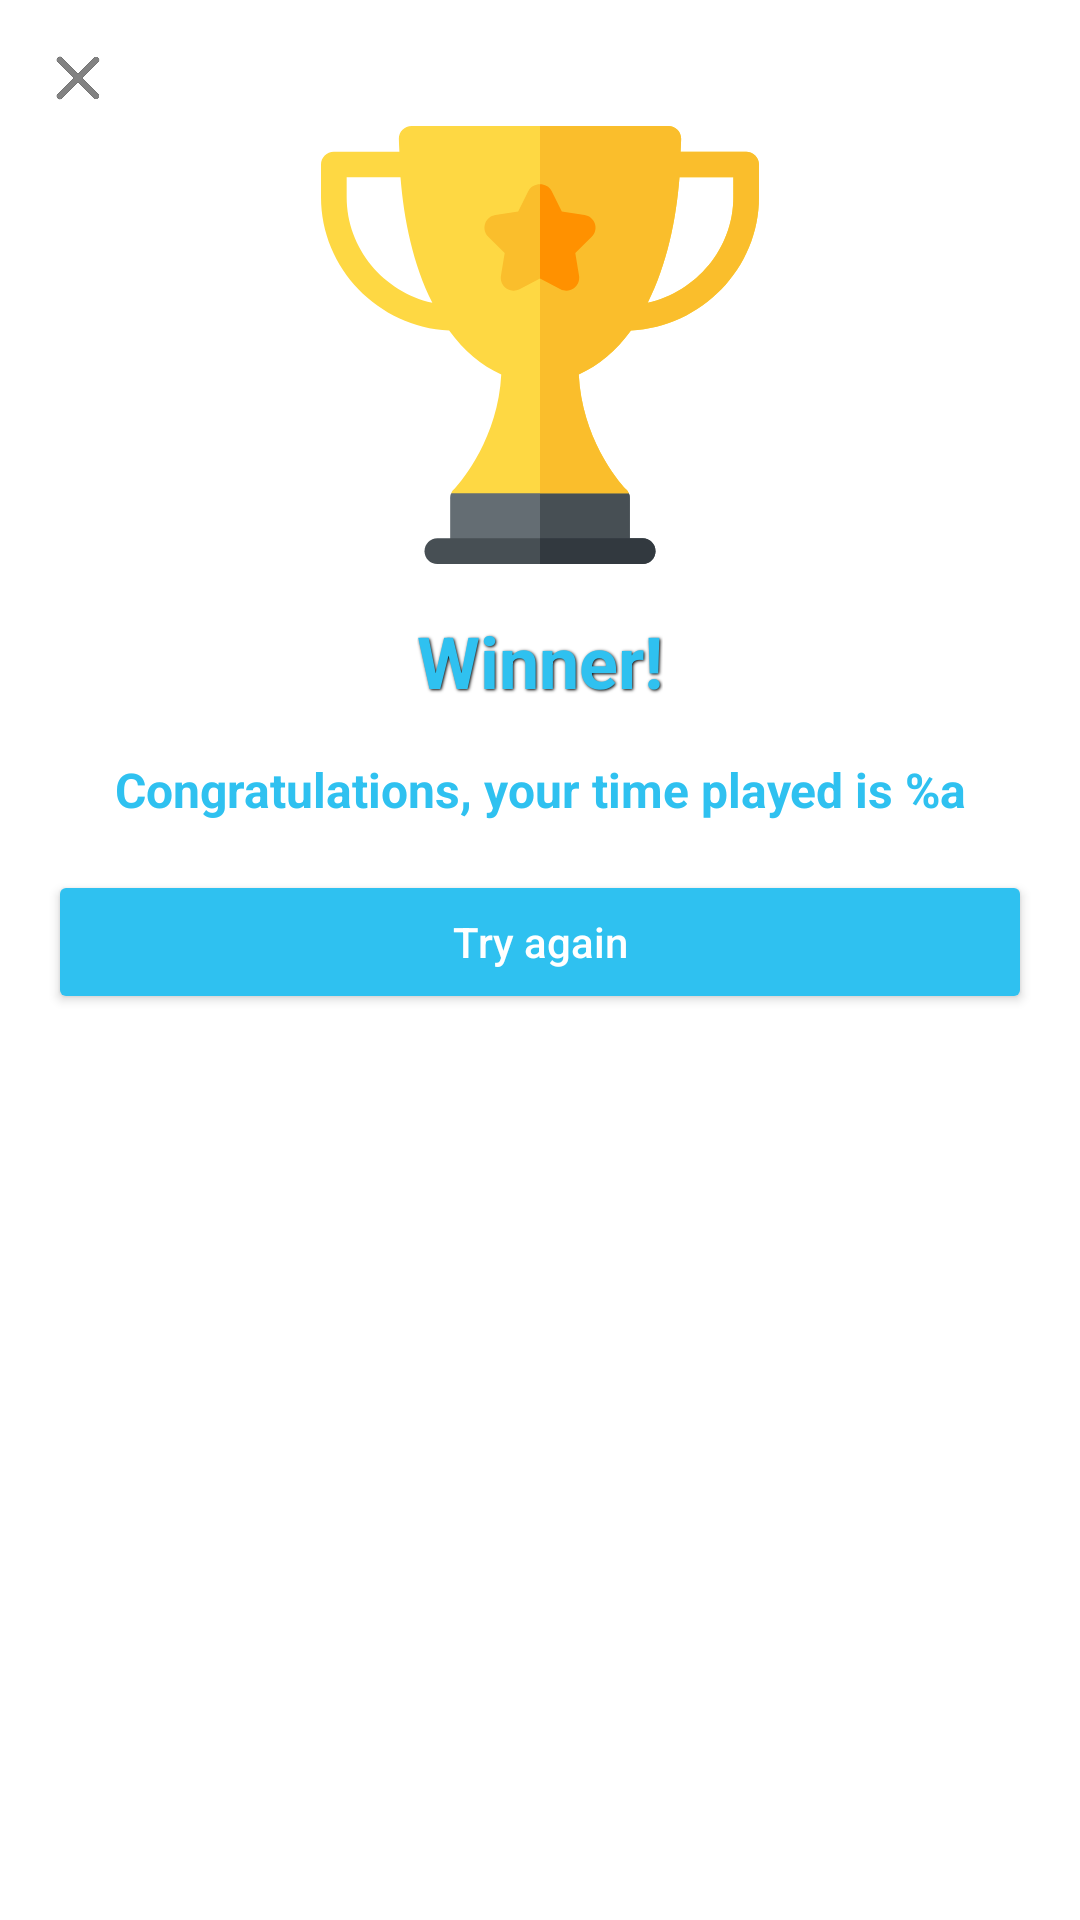

Point at icon controls on the screen. Image size 1080px x 1920px, points as (x,y).
Close success message: (77,78)
